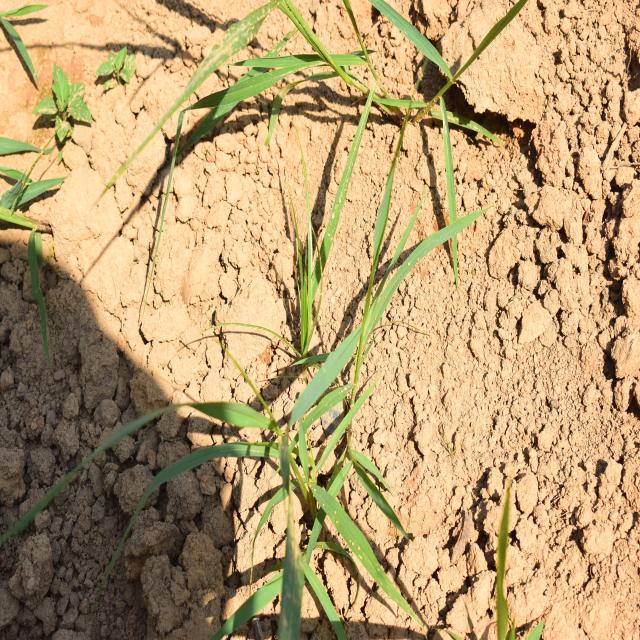green_foxtail: (85, 355, 377, 617), (322, 183, 443, 513)
